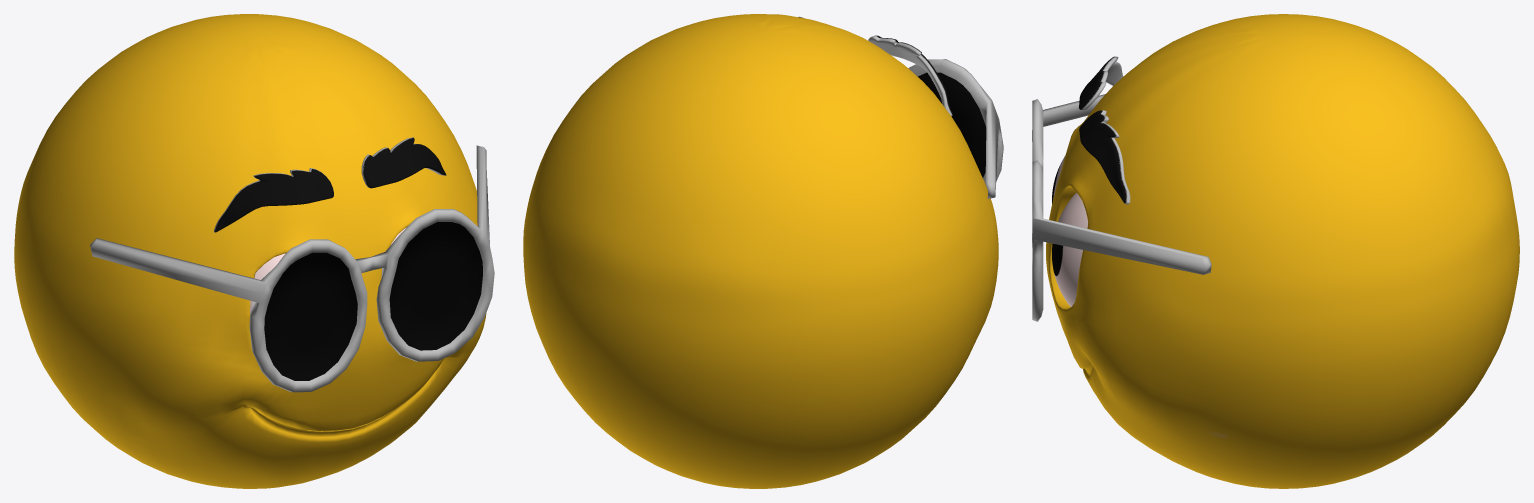
File: cool_000022.obj
The picture shows the model from 3 angles, left to right: view 1: azimuth 30°, elevation 25°; view 2: azimuth 150°, elevation 25°; view 3: azimuth 270°, elevation 25°; orthographic projection.
Parts seen in each view (by area): view 1: Smiley_goggle:Smiley_Untitled.001; view 2: Smiley_goggle:Smiley_Untitled.001; view 3: Smiley_goggle:Smiley_Untitled.001.
Part boxes in pixels (x1,y1,x2,y2): Smiley_goggle:Smiley_Untitled.001: (14,14,494,488); Smiley_goggle:Smiley_Untitled.001: (523,14,1003,488); Smiley_goggle:Smiley_Untitled.001: (1032,14,1519,488).
Size of the model in its own units: 0.0425 by 0.0431 by 0.044.
2 materials, 2 textured.
